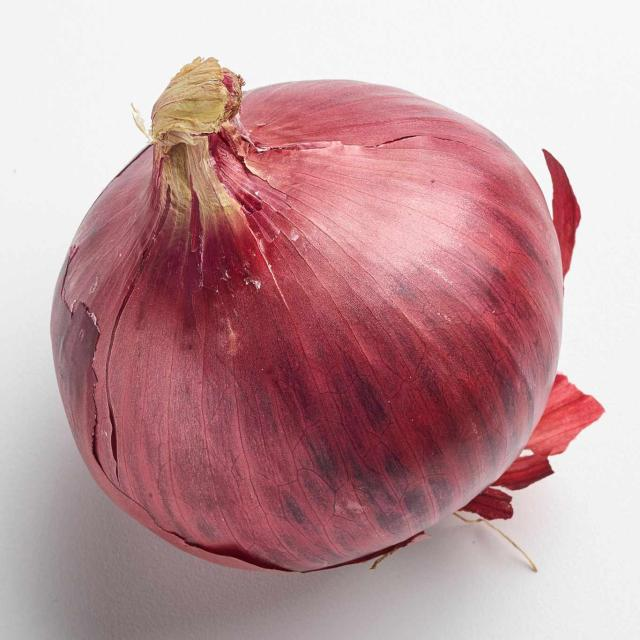onion: (50, 57, 578, 578)
